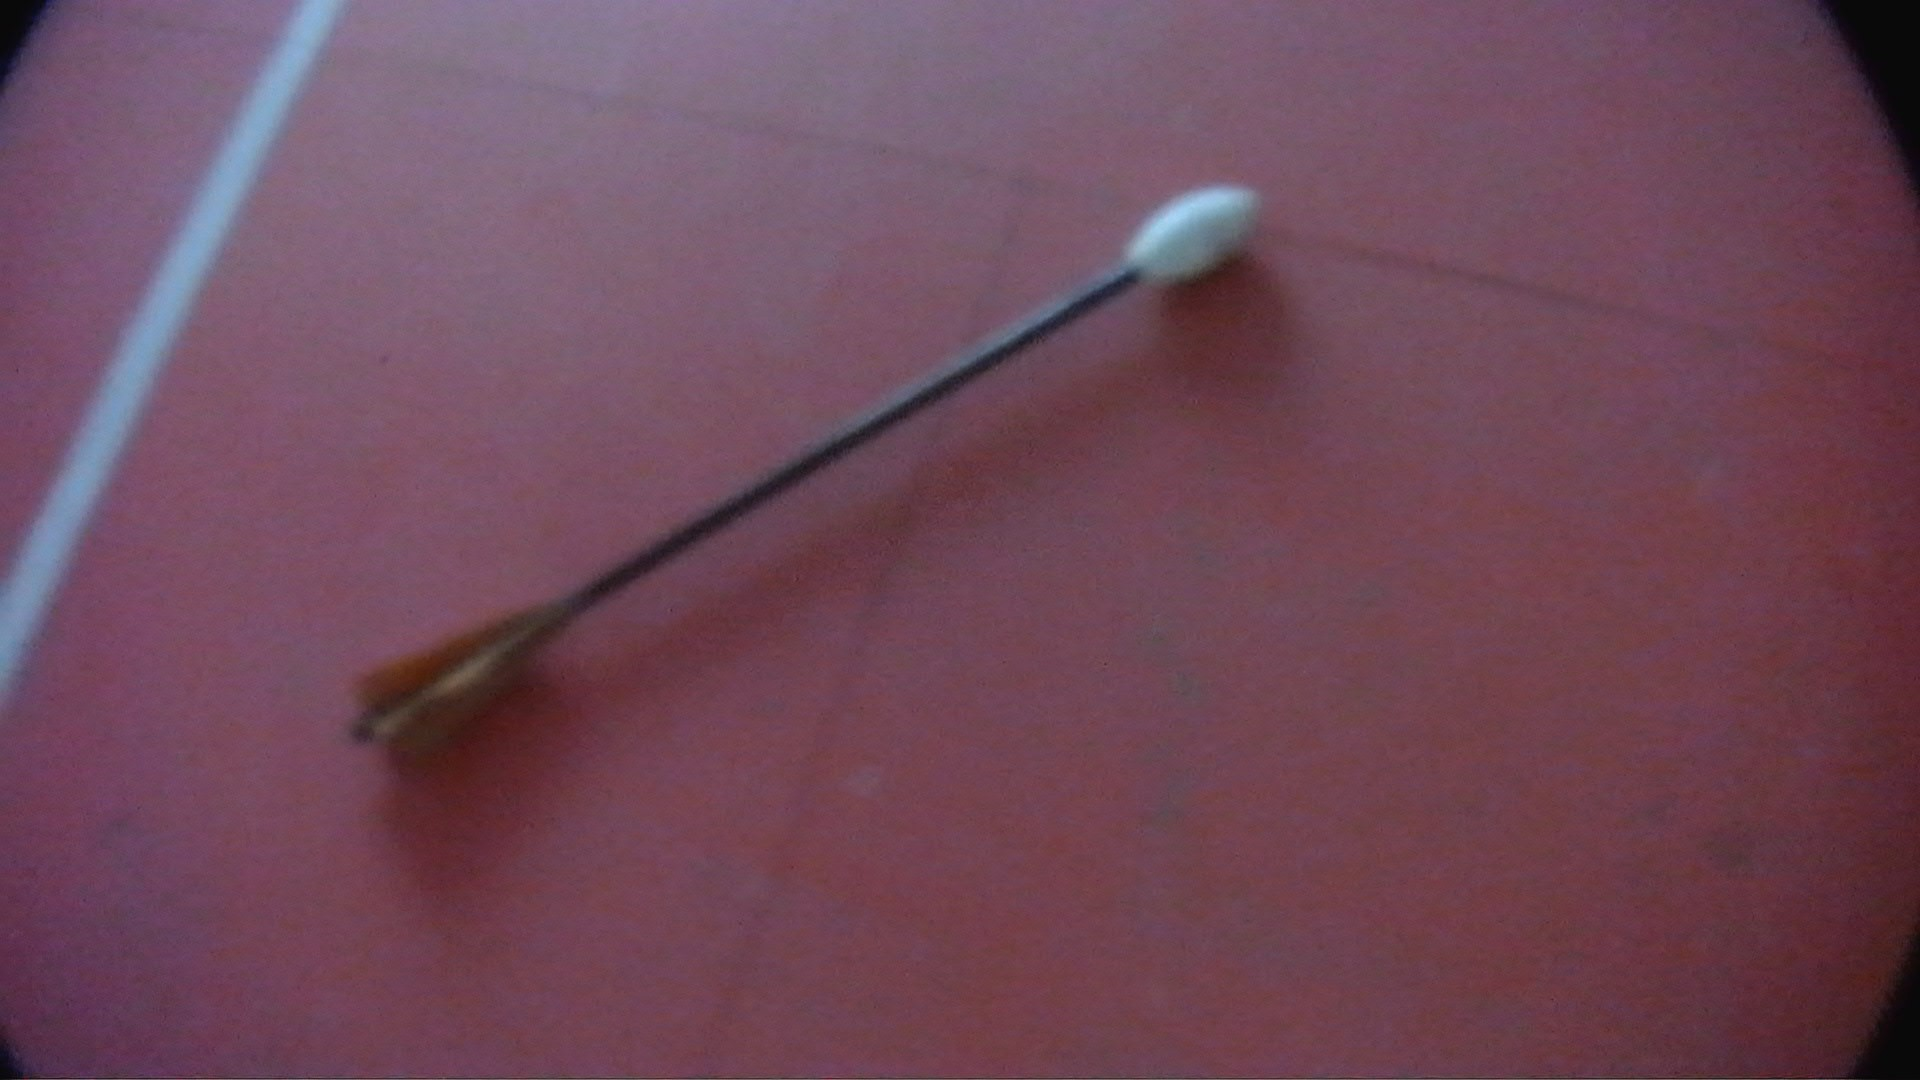arrow: (345, 185, 1267, 746)
arrowFront: (1120, 185, 1267, 286)
